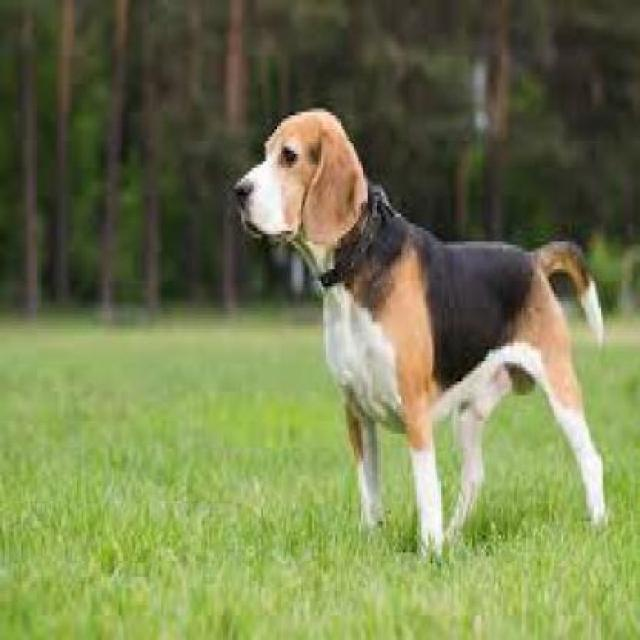Dog: (229, 100, 609, 565)
